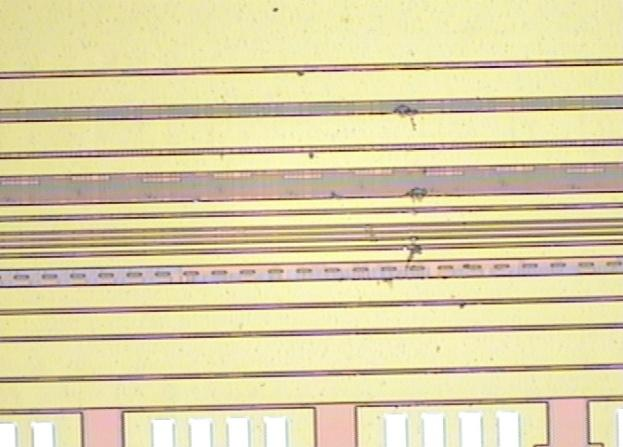PO CONTAMINATION: (267, 2, 502, 372)
